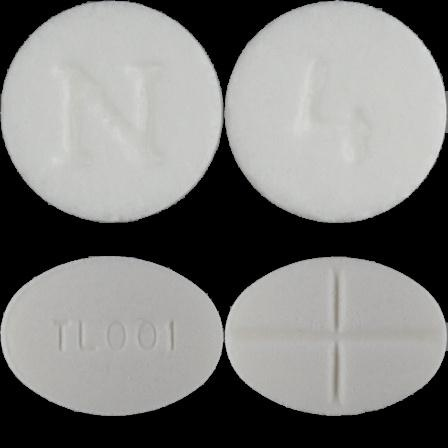70385-2014: (0, 0, 224, 224)
